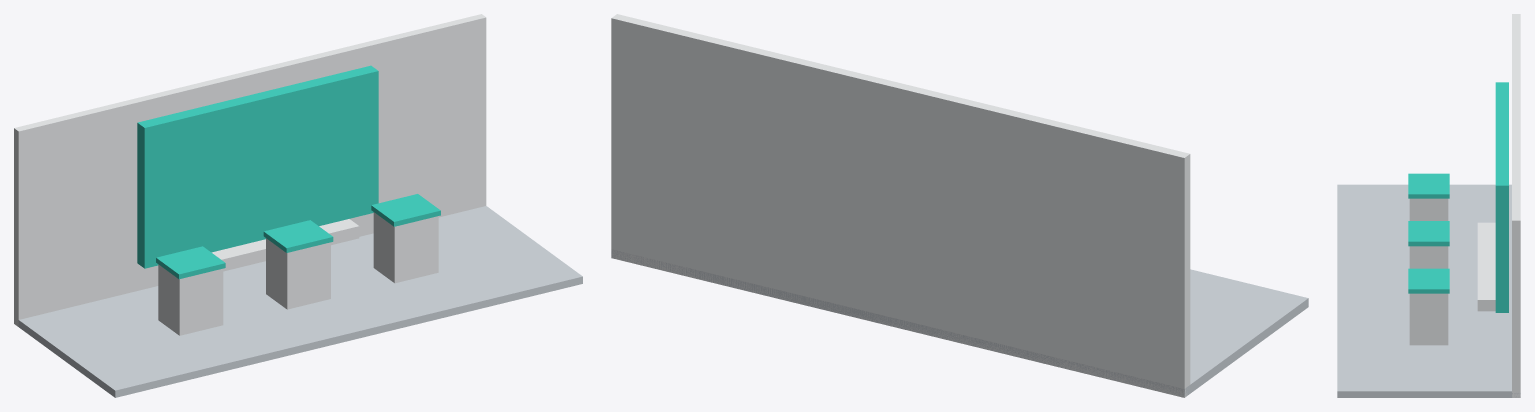
3 renders of one model, left to right at view 1: azimuth 30°, elevation 25°; view 2: azimuth 150°, elevation 25°; view 3: azimuth 270°, elevation 25°, orthographic. The views are drawn at different scales.
Parts seen in each view (by area): view 1: Exhibition Booth Concept; view 2: Exhibition Booth Concept; view 3: Exhibition Booth Concept.
Boxes of the visible parts, x1,y1,x2,y2 form: Exhibition Booth Concept: [14, 14, 582, 397]; Exhibition Booth Concept: [611, 14, 1308, 397]; Exhibition Booth Concept: [1337, 14, 1520, 397].
Bounding box in the file's own units: 8 × 3.2 × 3.
